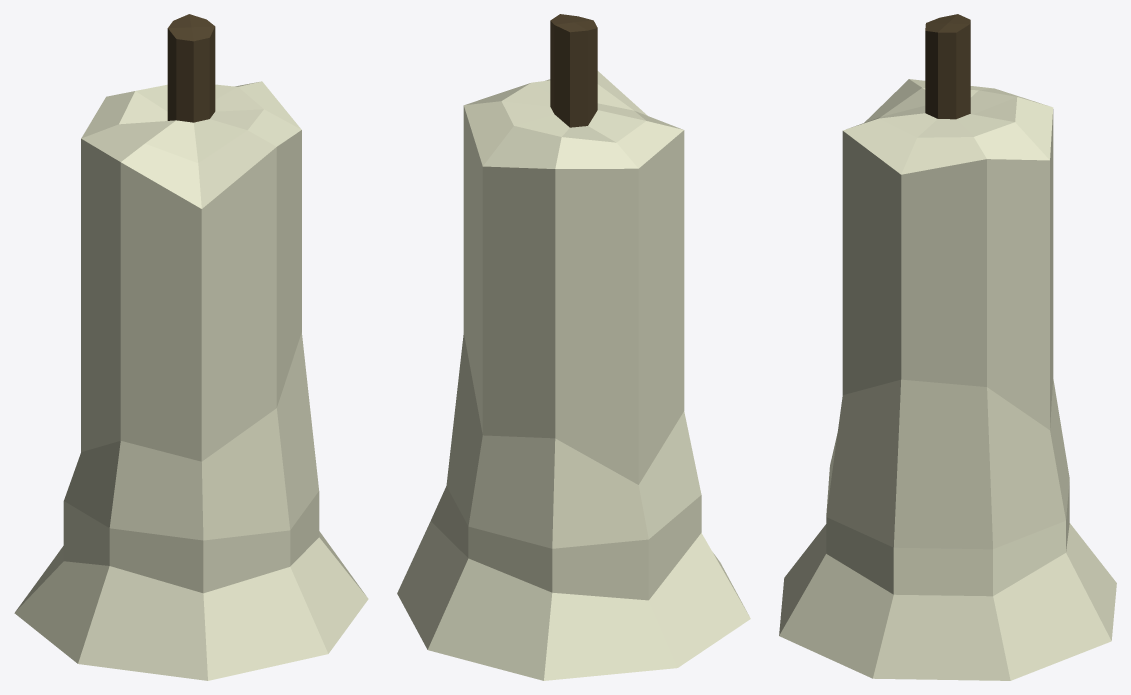
File: Candle_B.fbx
3 views of the same model, side by side, from view 1: azimuth 30°, elevation 25°; view 2: azimuth 150°, elevation 25°; view 3: azimuth 270°, elevation 25° (orthographic).
Parts seen in each view (by area): view 1: Cylinder.006; view 2: Cylinder.006; view 3: Cylinder.006.
Boxes of the visible parts, box(x1,y1,x2,y2) form: Cylinder.006: box(14, 14, 368, 680); Cylinder.006: box(397, 14, 750, 680); Cylinder.006: box(779, 14, 1116, 680).
Size of the model in its own units: 179 by 345 by 179.
